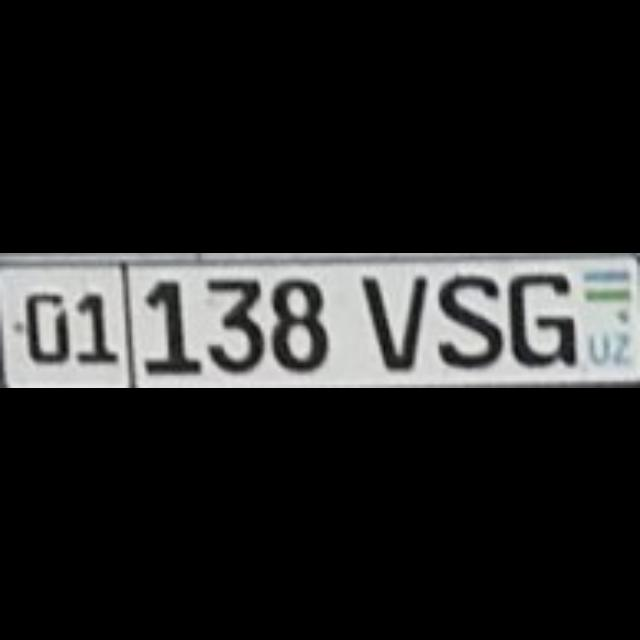0: (19, 288, 62, 358)
1: (138, 275, 198, 371), (69, 288, 115, 362)
3: (201, 275, 257, 371)
8: (268, 275, 326, 367)
G: (505, 272, 571, 364)
S: (436, 272, 498, 364)
V: (360, 272, 426, 368)
